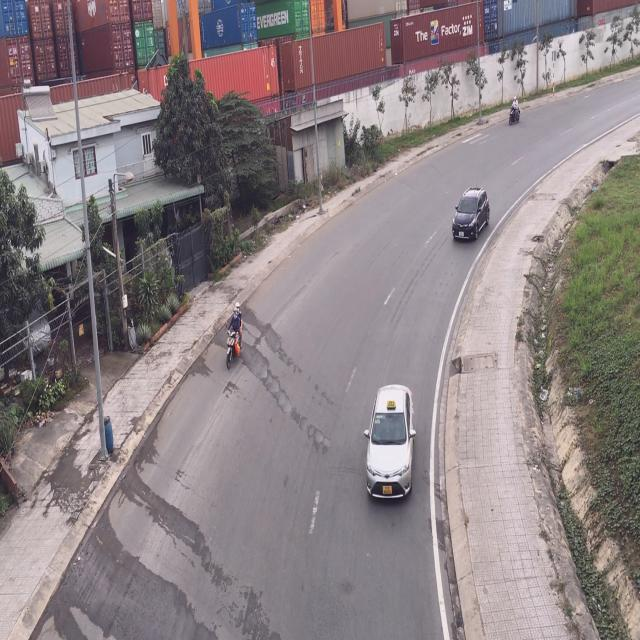car: (364, 387, 412, 504), (448, 188, 488, 243)
motorbike: (224, 303, 244, 366), (508, 98, 520, 125)
